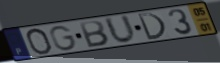3: (168, 8, 194, 36)
B: (78, 19, 111, 49)
D: (136, 11, 167, 41)
G: (49, 25, 79, 52)
O: (25, 27, 54, 56)
U: (102, 14, 138, 45)
